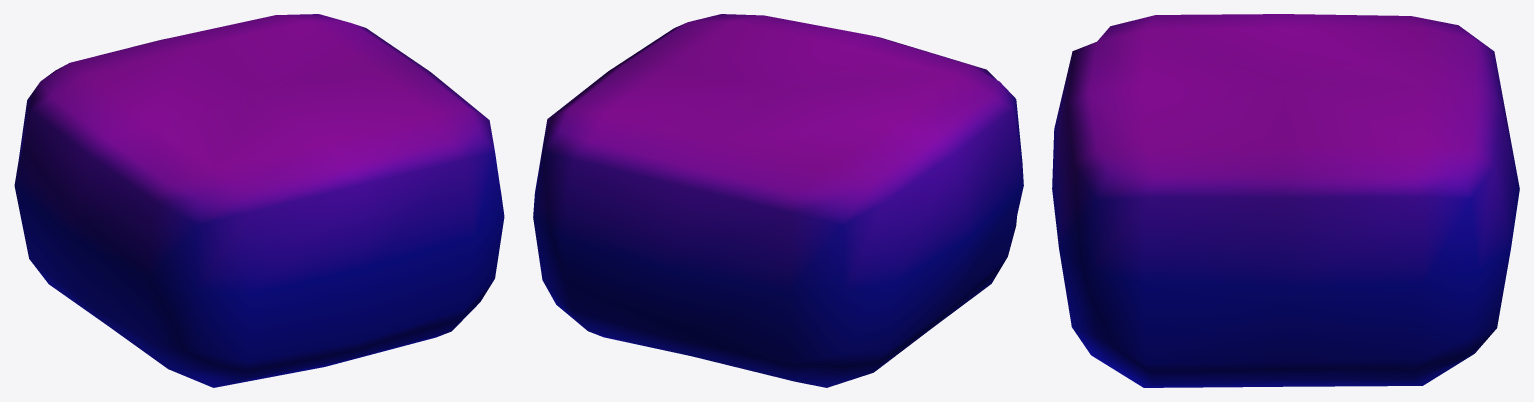
Rendered from clutch_stone.glb.
3 renders of one model, left to right at view 1: azimuth 30°, elevation 25°; view 2: azimuth 150°, elevation 25°; view 3: azimuth 270°, elevation 25°, orthographic. The views are drawn at different scales.
Parts seen in each view (by area): view 1: clutch_stone; view 2: clutch_stone; view 3: clutch_stone.
Part boxes in pixels (left/top/right/bottom): clutch_stone: left=14, top=14, right=504, bottom=387; clutch_stone: left=533, top=14, right=1023, bottom=387; clutch_stone: left=1052, top=14, right=1519, bottom=387.
Size of what is drawn, in the model's own units: 1.22 by 0.7245 by 1.21.
